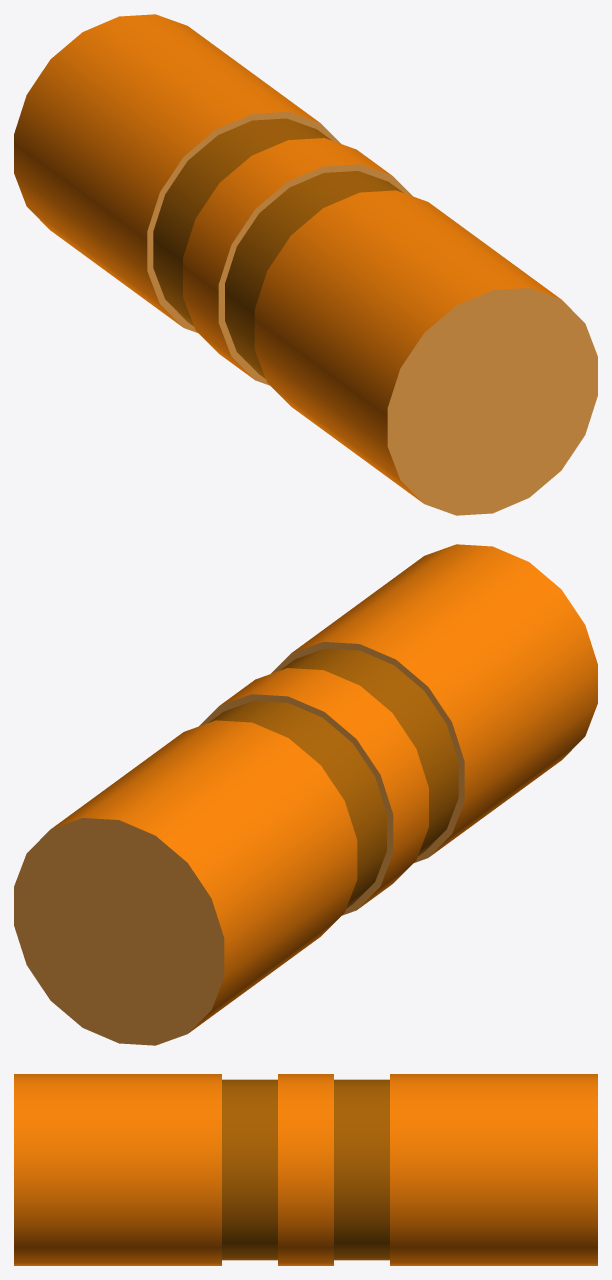
The model's file is Robot Arm 01.fbx.
3 renders of one model, top to bottom at view 1: azimuth 30°, elevation 25°; view 2: azimuth 150°, elevation 25°; view 3: azimuth 270°, elevation 25°, orthographic. The views are drawn at different scales.
Visible parts, largest first — view 1: Robot Arm 01.001; view 2: Robot Arm 01.001; view 3: Robot Arm 01.001.
Boxes of the visible parts, <box> form: Robot Arm 01.001: <box>14,14,597,515</box>; Robot Arm 01.001: <box>14,544,597,1045</box>; Robot Arm 01.001: <box>14,1074,597,1265</box>.
Bounding box in the file's own units: 64.97 × 65.97 × 200.
